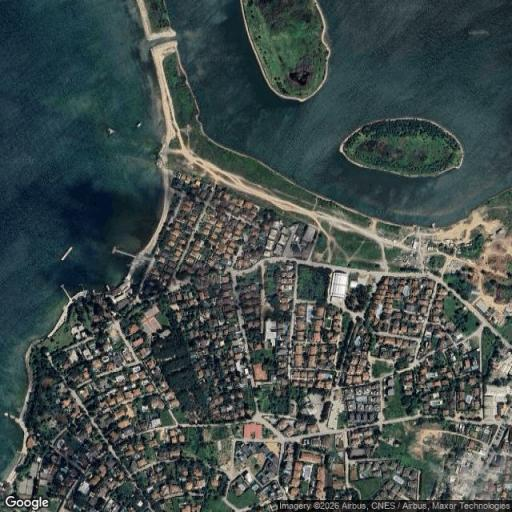ship: (56, 246, 78, 262)
